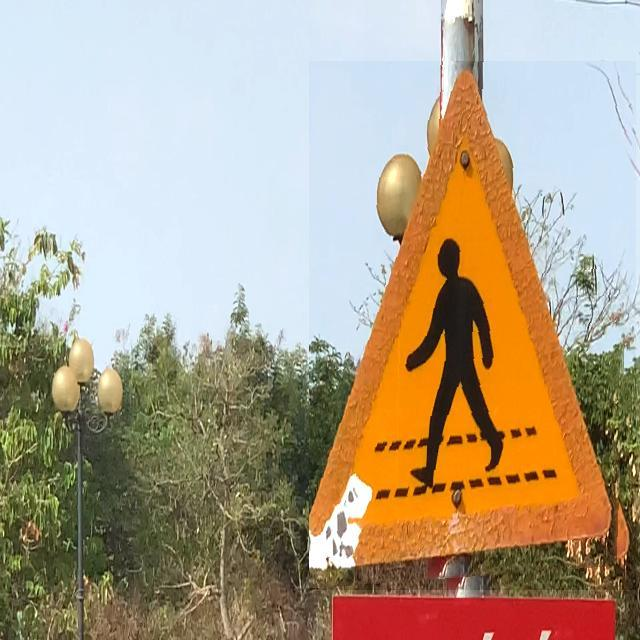W-224: (309, 61, 636, 590)
